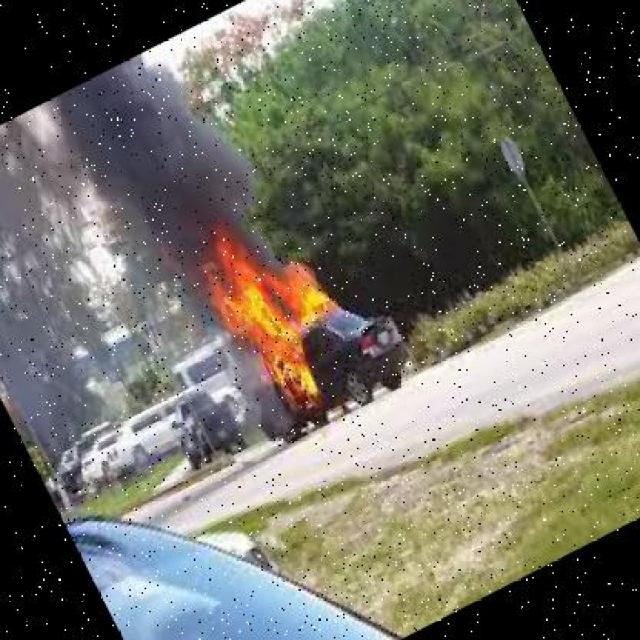fire: (177, 194, 372, 421)
